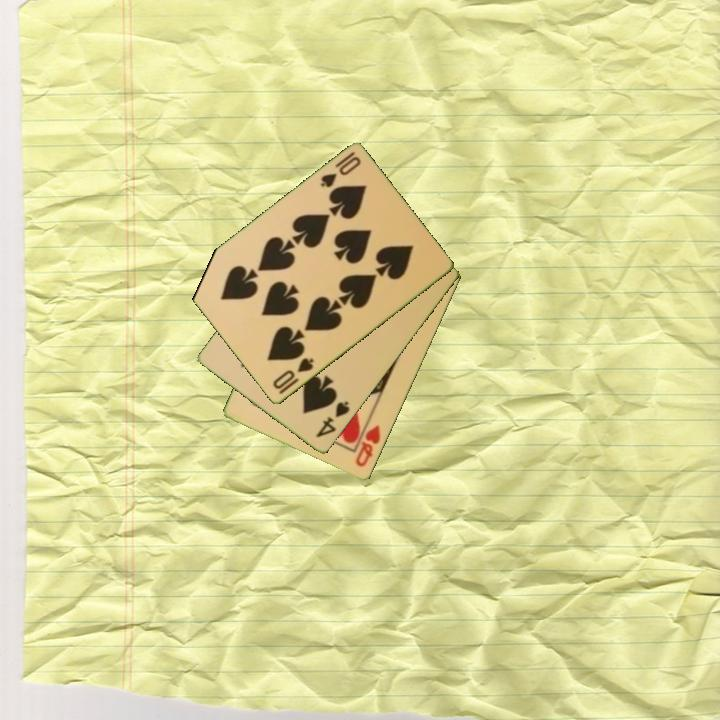10s: (317, 148, 364, 191), (269, 354, 317, 393)
4s: (312, 398, 353, 441)
Qh: (352, 421, 383, 470)
